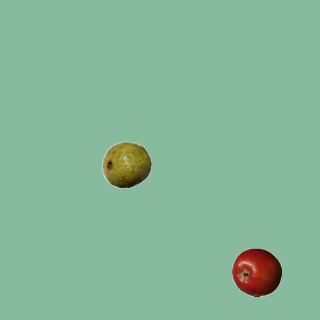Apple Braeburn: (231, 247, 281, 297)
Guava: (101, 139, 151, 189)
